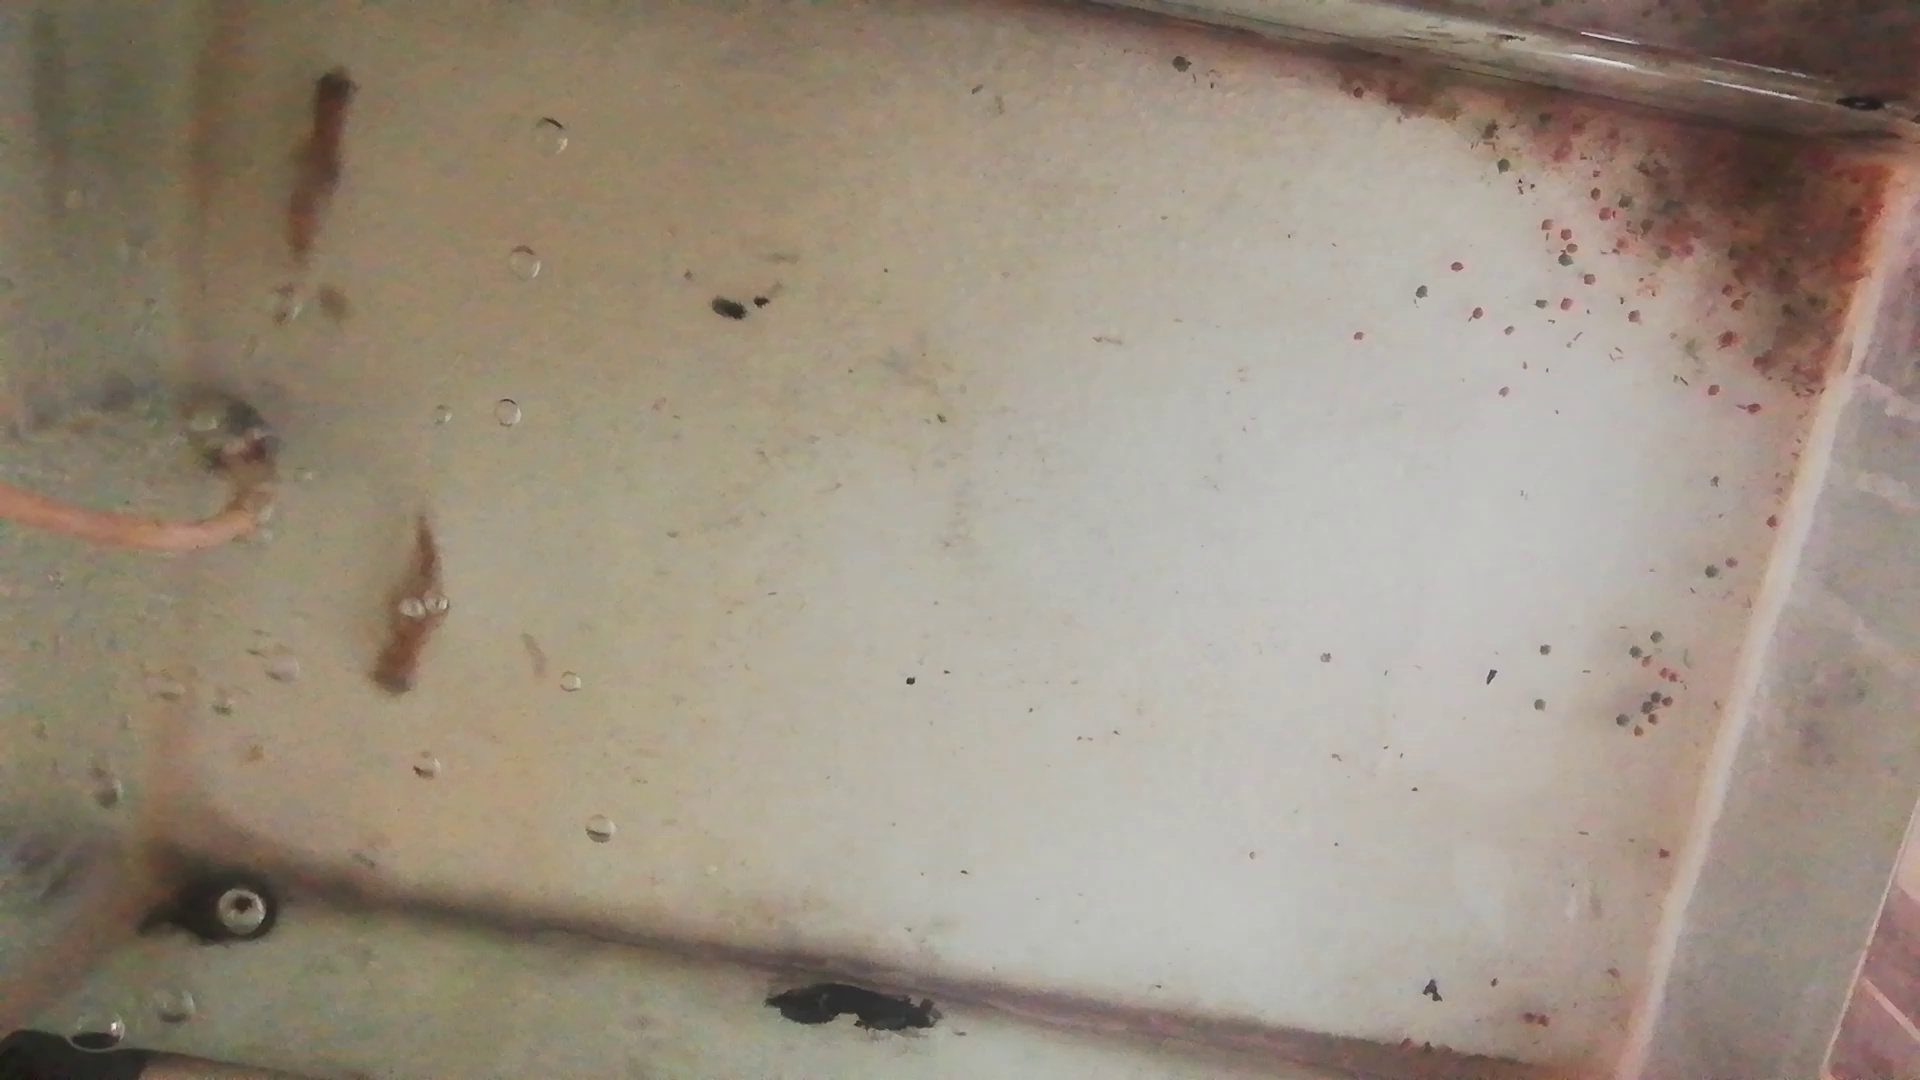fish: (285, 70, 364, 268), (371, 518, 448, 698)
